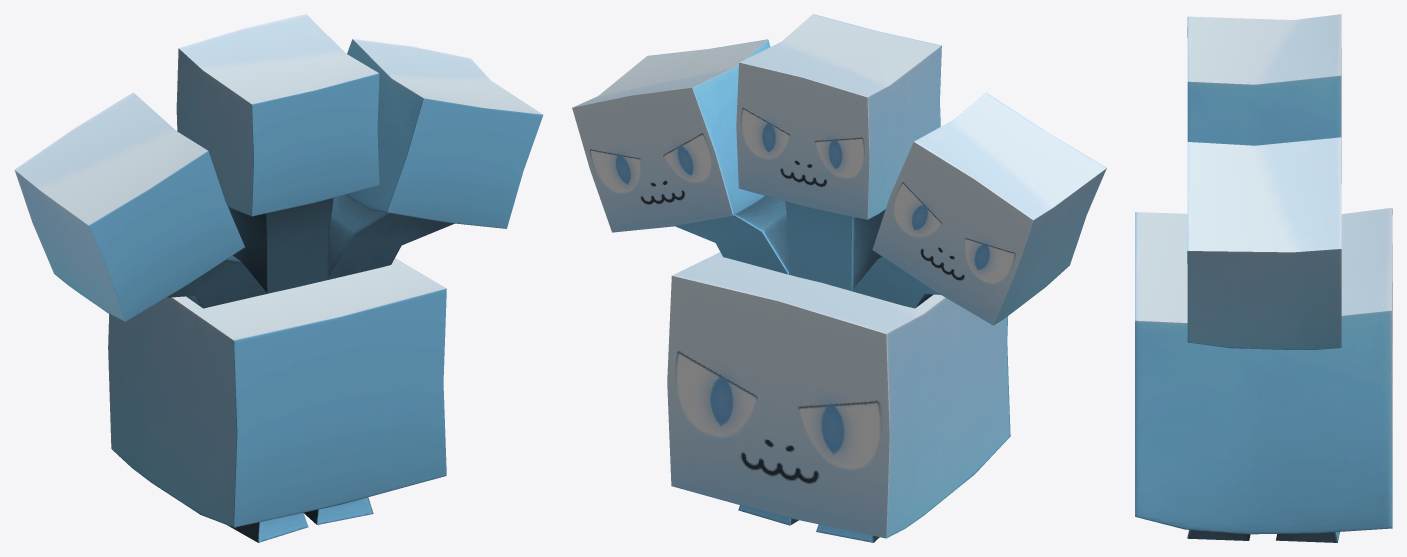
File: rare4.glb
3 views of the same model, side by side, from view 1: azimuth 30°, elevation 25°; view 2: azimuth 150°, elevation 25°; view 3: azimuth 270°, elevation 25° (orthographic). The views are drawn at different scales.
Parts seen in each view (by area): view 1: Pets.054; view 2: Pets.054; view 3: Pets.054.
Part boxes in pixels (<box>): Pets.054: <box>14,14,543,542</box>; Pets.054: <box>572,14,1106,542</box>; Pets.054: <box>1135,14,1392,542</box>.
Bounding box in the file's own units: 3.68 × 3.43 × 1.72.
Materials: 1 (1 with a texture image).
